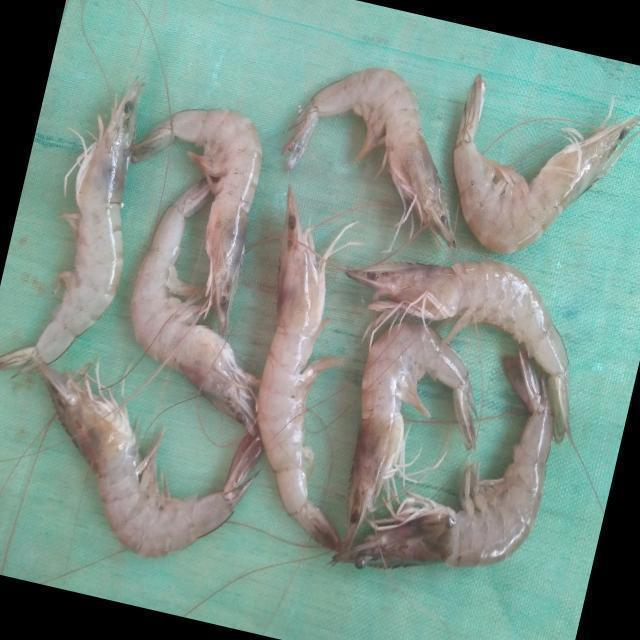shrimp: (334, 351, 554, 568), (37, 363, 261, 557), (0, 78, 140, 373), (346, 261, 571, 441), (256, 187, 349, 550), (453, 73, 640, 252), (129, 178, 258, 432), (281, 66, 455, 245), (129, 108, 261, 334), (344, 321, 476, 546)
